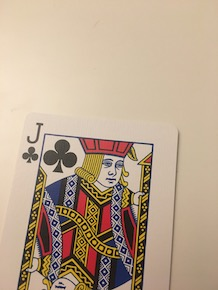JackOfClubs: (1, 103, 183, 290)
